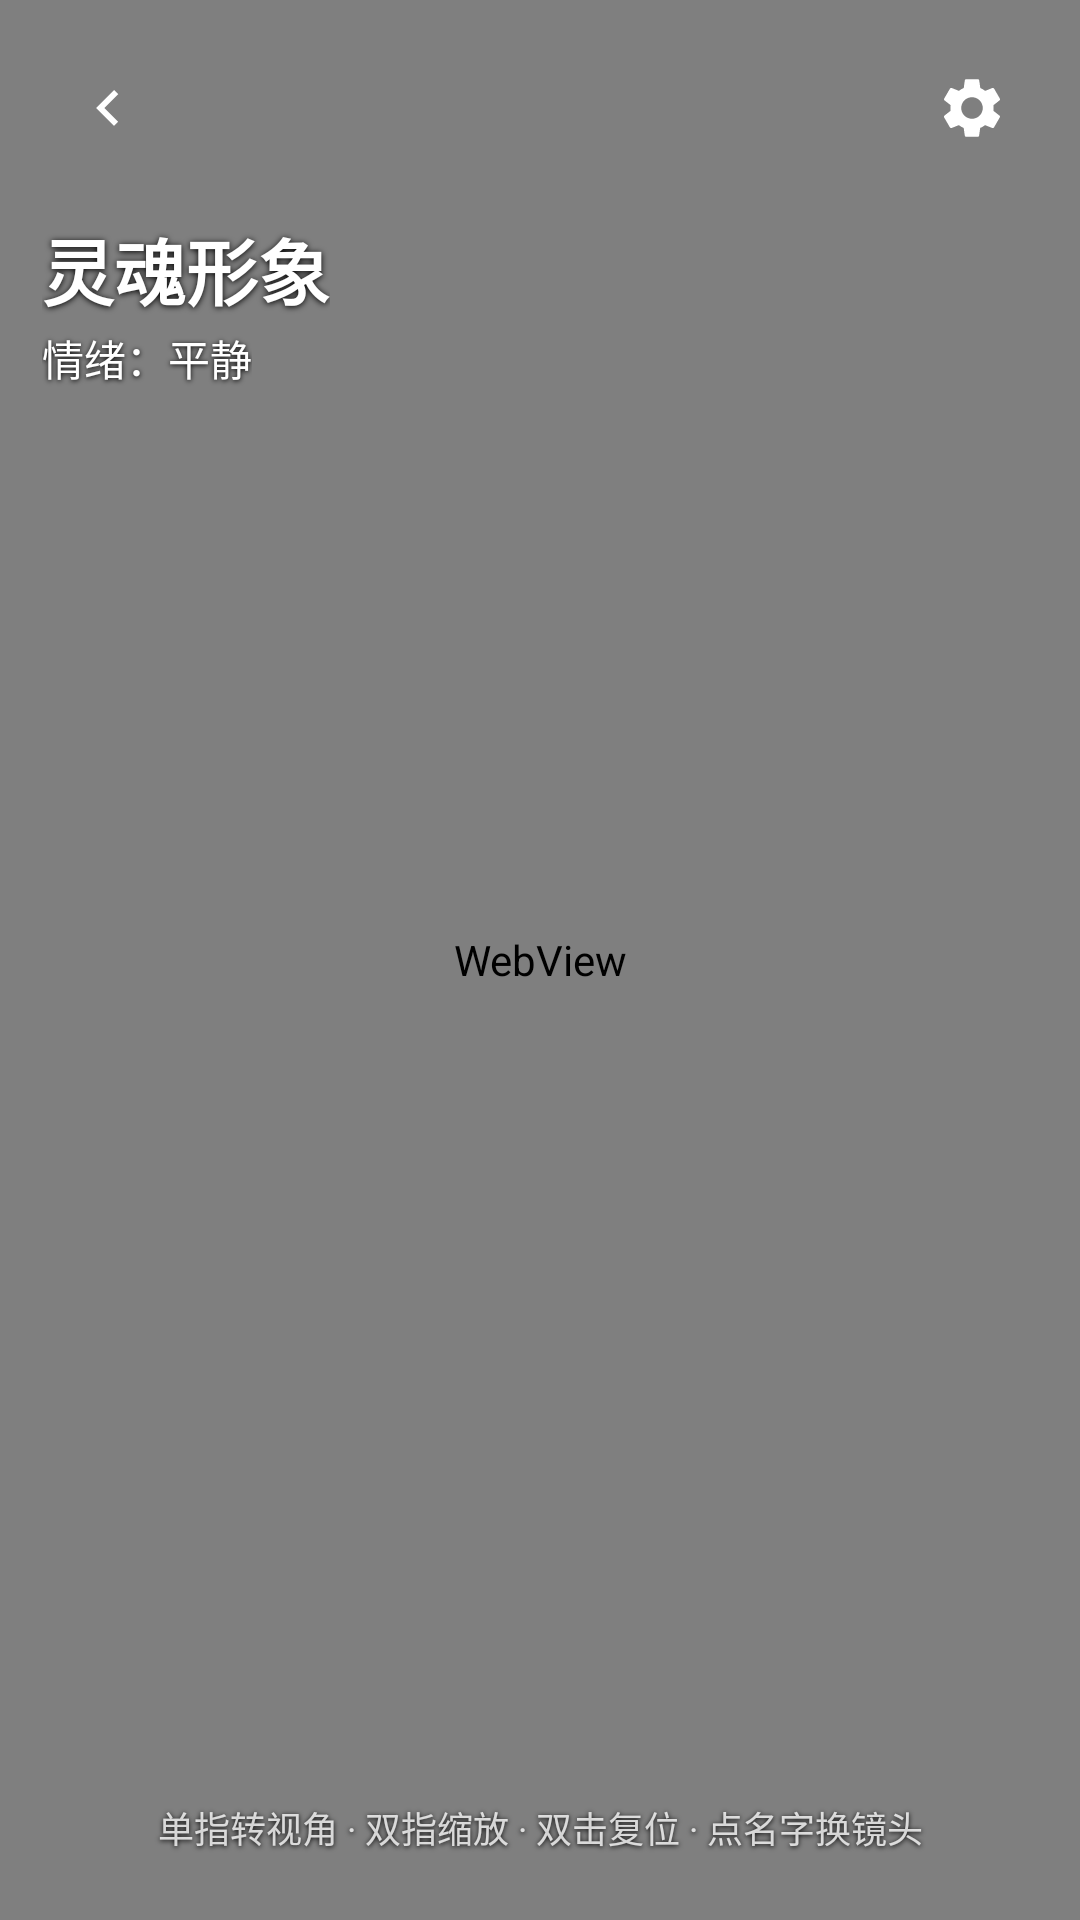

Point at icon controls on the screen. Image size 1080 x 1920, points as (x,y).
返回: (107,108)
